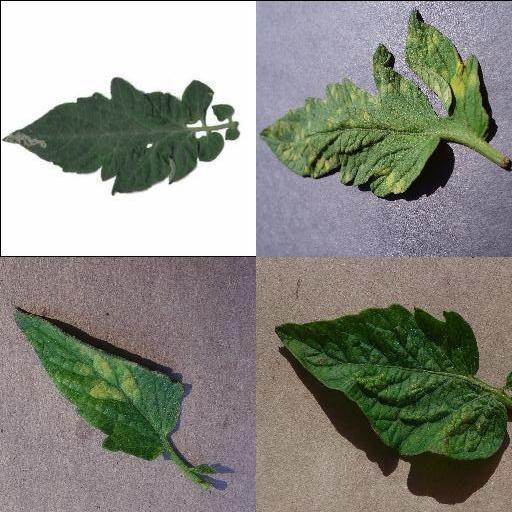Leaf Miner: (1, 72, 200, 194)
Leaf Mold: (257, 8, 489, 194), (11, 306, 185, 458)
Spider Mites: (273, 302, 509, 460)
